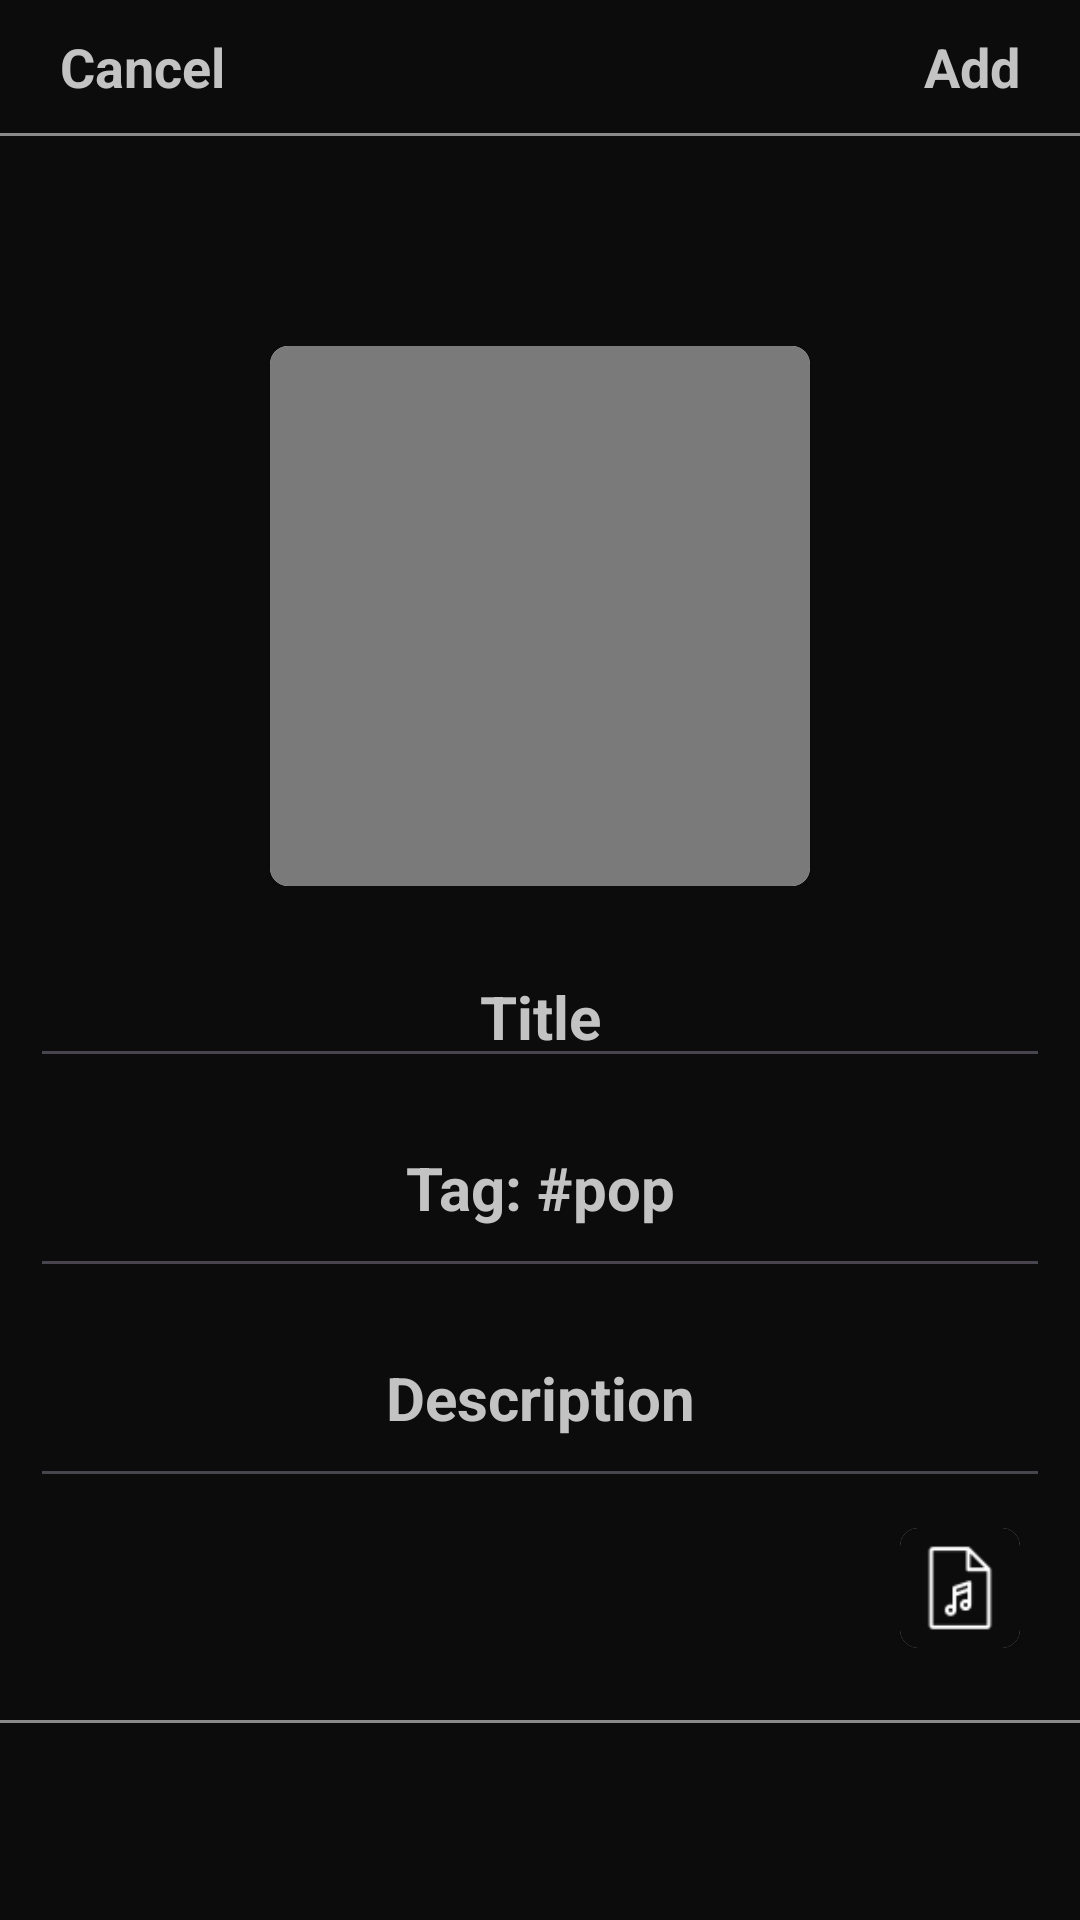

Where to tap for icons on this 1080 x 1920 app screen, as (x,y):
audio: (960,1588)
